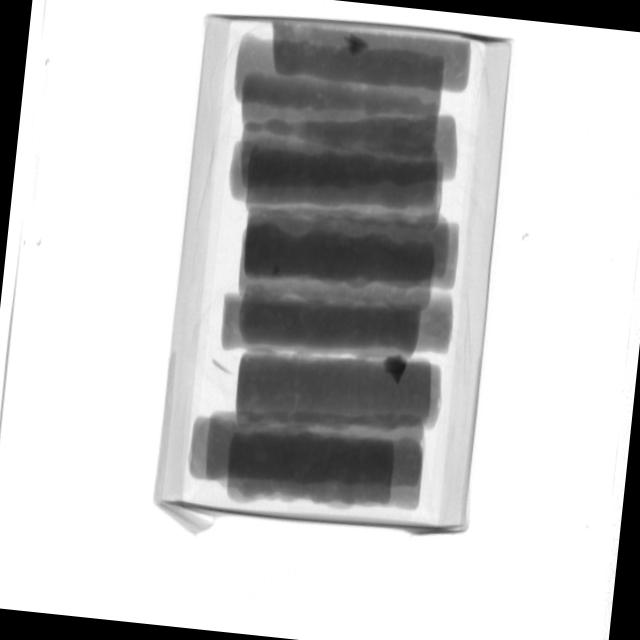ym: (382, 354, 408, 384), (346, 34, 372, 58), (212, 359, 234, 372), (271, 263, 283, 279)
